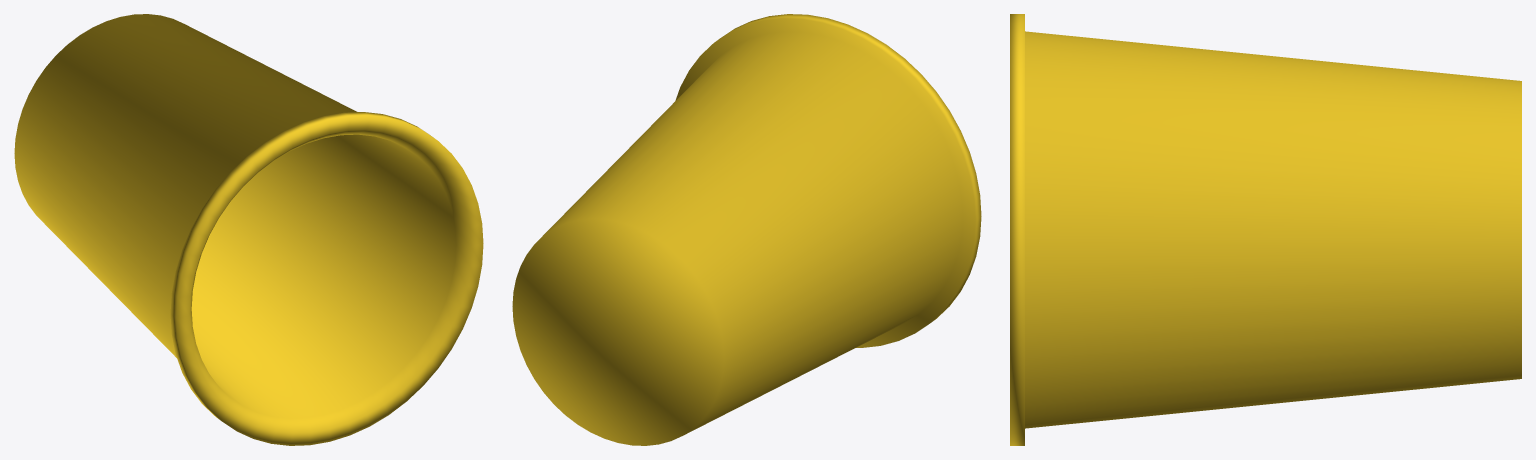
File: Cup_Yellow.obj
3 views of the same model, side by side, from view 1: azimuth 30°, elevation 25°; view 2: azimuth 150°, elevation 25°; view 3: azimuth 270°, elevation 25° (orthographic). The views are drawn at different scales.
Visible parts, largest first — view 1: Cup_Yellow; view 2: Cup_Yellow; view 3: Cup_Yellow.
Part boxes in pixels (x1,y1,x2,y2): Cup_Yellow: (14,14,483,445); Cup_Yellow: (512,14,981,445); Cup_Yellow: (1010,14,1521,445).
Bounding box in the file's own units: 0.087 × 0.087 × 0.103.
